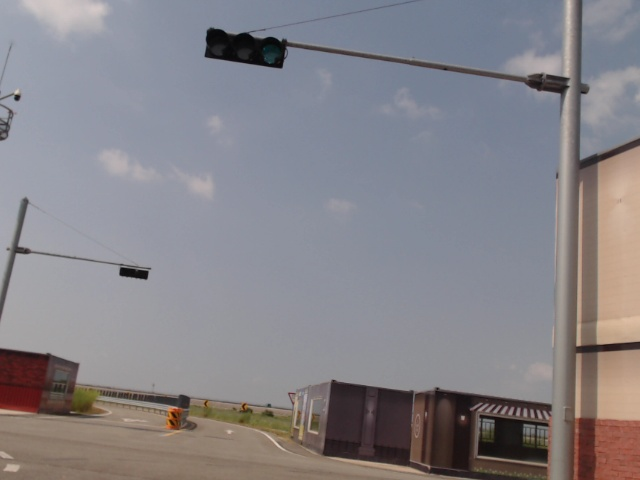green_3: (205, 27, 288, 69)
